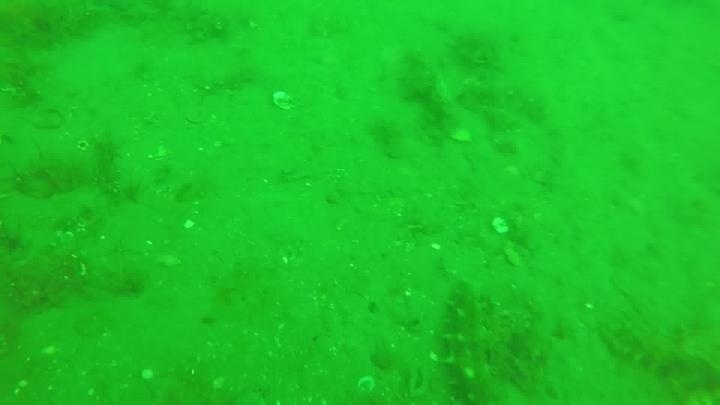holothurian: (600, 317, 720, 394), (437, 282, 505, 405)
